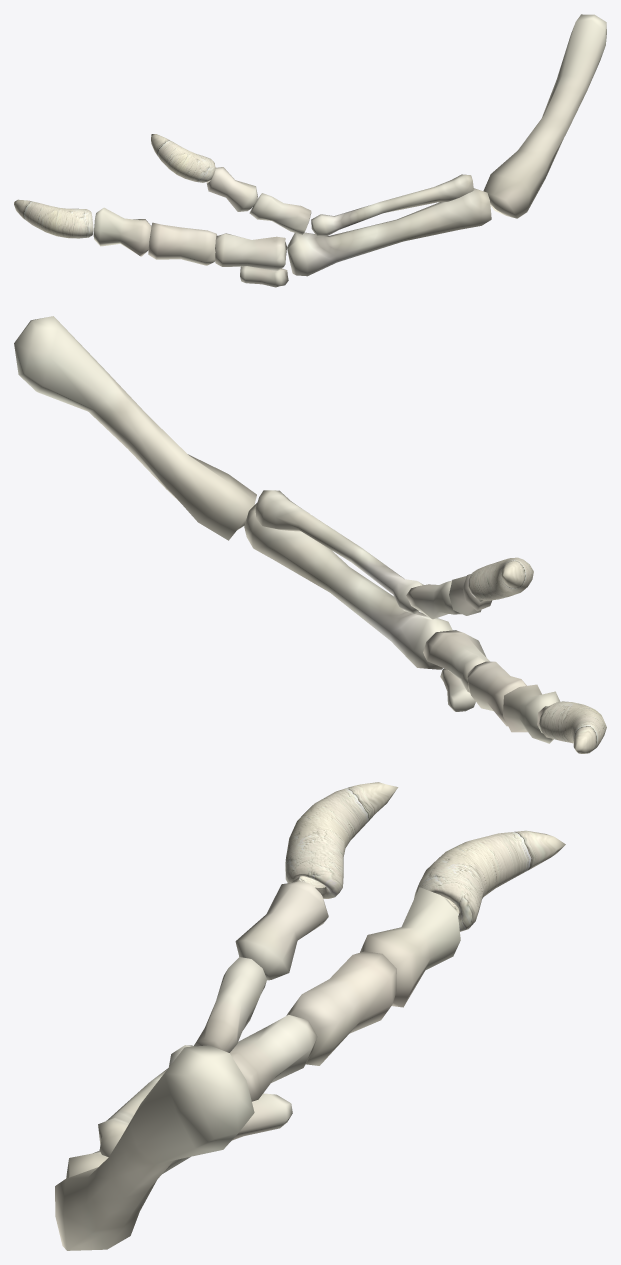
Rendered from dinoBrazoIzq.obj.
3 renders of one model, top to bottom at view 1: azimuth 30°, elevation 25°; view 2: azimuth 150°, elevation 25°; view 3: azimuth 270°, elevation 25°, orthographic. The views are drawn at different scales.
Parts seen in each view (by area): view 1: brazoIzquierdo; view 2: brazoIzquierdo; view 3: brazoIzquierdo.
Part boxes in pixels (x1,y1,x2,y2): brazoIzquierdo: (14, 14, 606, 287); brazoIzquierdo: (14, 316, 606, 753); brazoIzquierdo: (55, 782, 565, 1250).
Bounding box in the file's own units: 2.59 × 0.9702 × 1.13.
Materials: 1 (1 with a texture image).
